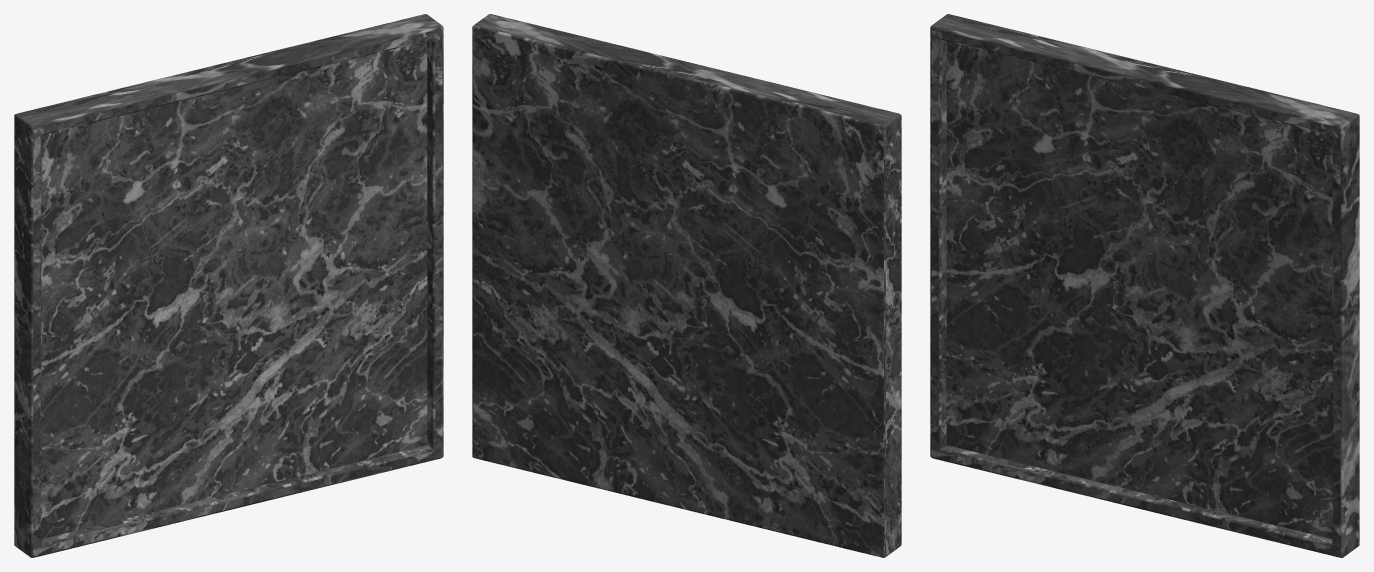
The model's file is ArenaAlternative.obj.
3 renders of one model, left to right at view 1: azimuth 30°, elevation 25°; view 2: azimuth 150°, elevation 25°; view 3: azimuth 330°, elevation 25°, orthographic.
Parts seen in each view (by area): view 1: Arena; view 2: Arena; view 3: Arena.
Part boxes in pixels (<box>): Arena: <box>14,14,443,557</box>; Arena: <box>472,14,901,557</box>; Arena: <box>930,14,1359,557</box>.
Size of the model in its own units: 20 by 20 by 1.5.
1 material, 1 textured.
